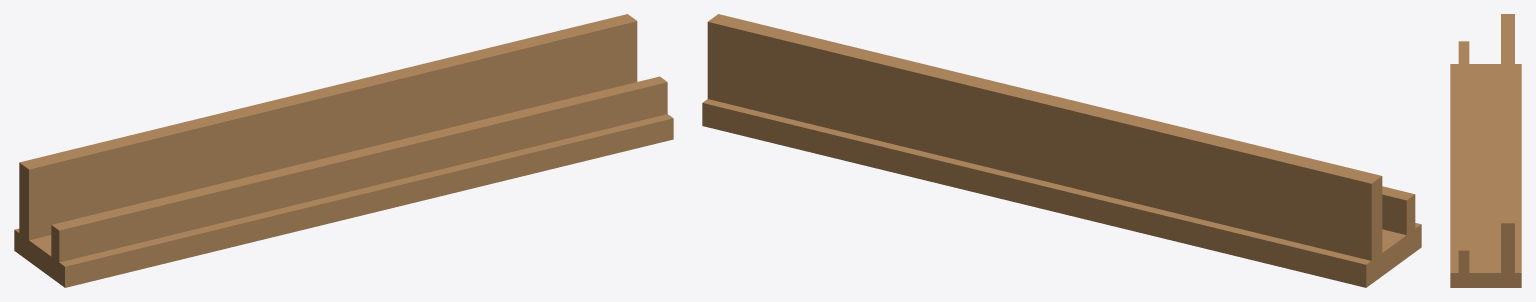
File: tabletop-game-components-card-rail-30f9bd97__20868.glb
3 views of the same model, side by side, from view 1: azimuth 30°, elevation 25°; view 2: azimuth 150°, elevation 25°; view 3: azimuth 270°, elevation 25° (orthographic). The views are drawn at different scales.
Parts seen in each view (by area): view 1: card-rail; view 2: card-rail; view 3: card-rail.
Boxes of the visible parts, x1,y1,x2,y2 form: card-rail: [14, 14, 673, 287]; card-rail: [702, 14, 1421, 287]; card-rail: [1450, 14, 1521, 287].
Bounding box in the file's own units: 0.18 × 0.026 × 0.026.
